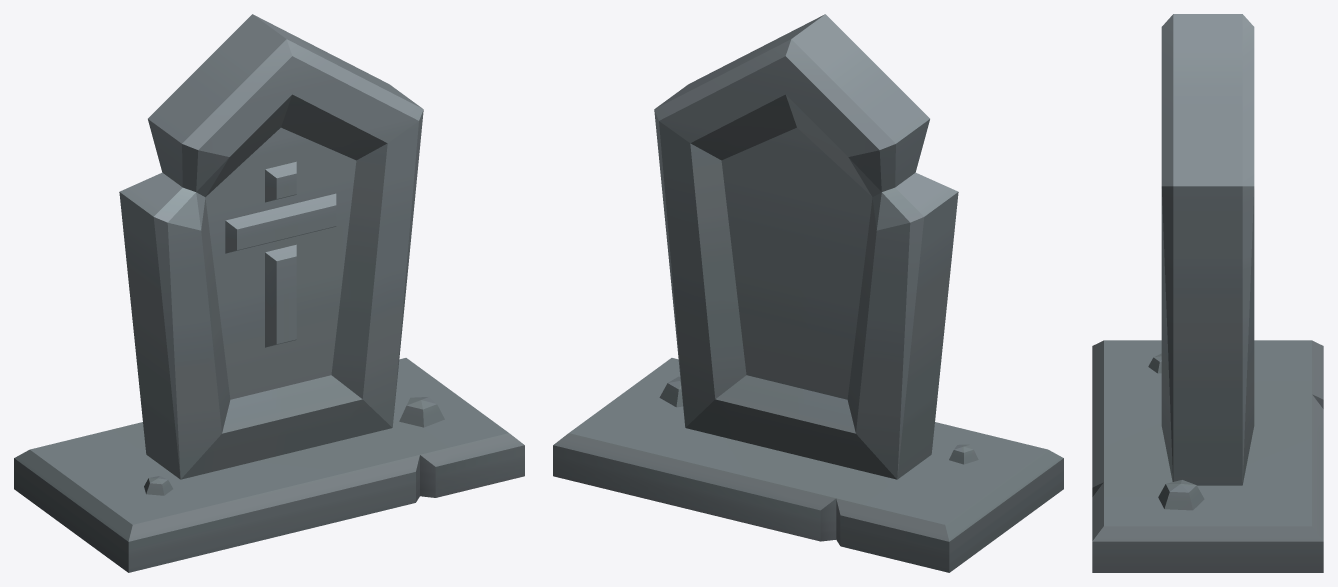
File: grave_b.glb
The picture shows the model from 3 angles, left to right: view 1: azimuth 30°, elevation 25°; view 2: azimuth 150°, elevation 25°; view 3: azimuth 270°, elevation 25°; orthographic projection.
Visible parts, largest first — view 1: grave_B; view 2: grave_B; view 3: grave_B.
Part boxes in pixels (box(x1,y1,x2,y2)): grave_B: box(14, 14, 524, 572); grave_B: box(553, 14, 1063, 572); grave_B: box(1092, 14, 1323, 572).
Bounding box in the file's own units: 2 × 2.2 × 0.9999.
Materials: 1 (1 with a texture image).
